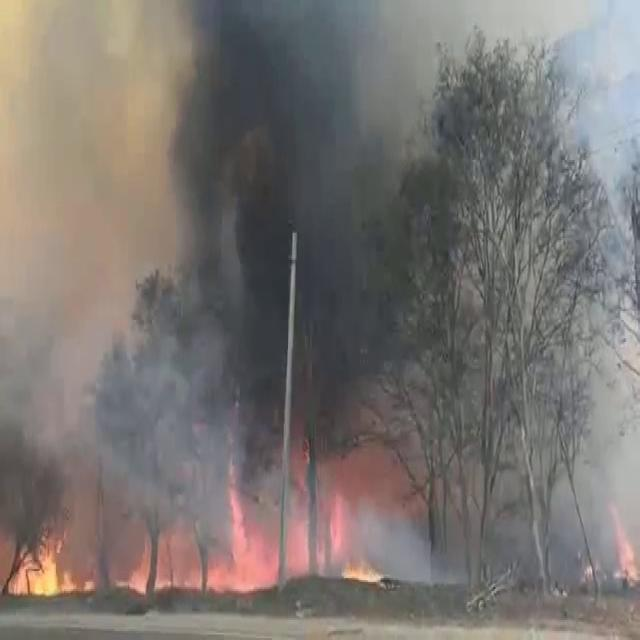Fire: (136, 522, 302, 613), (0, 536, 92, 596), (322, 488, 372, 576), (343, 566, 382, 586), (620, 541, 637, 582)
Smoke: (181, 0, 437, 429)
